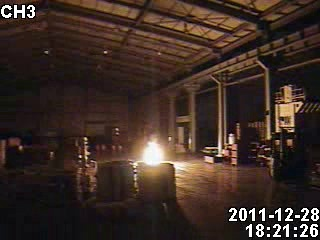fire: (139, 140, 167, 167)
